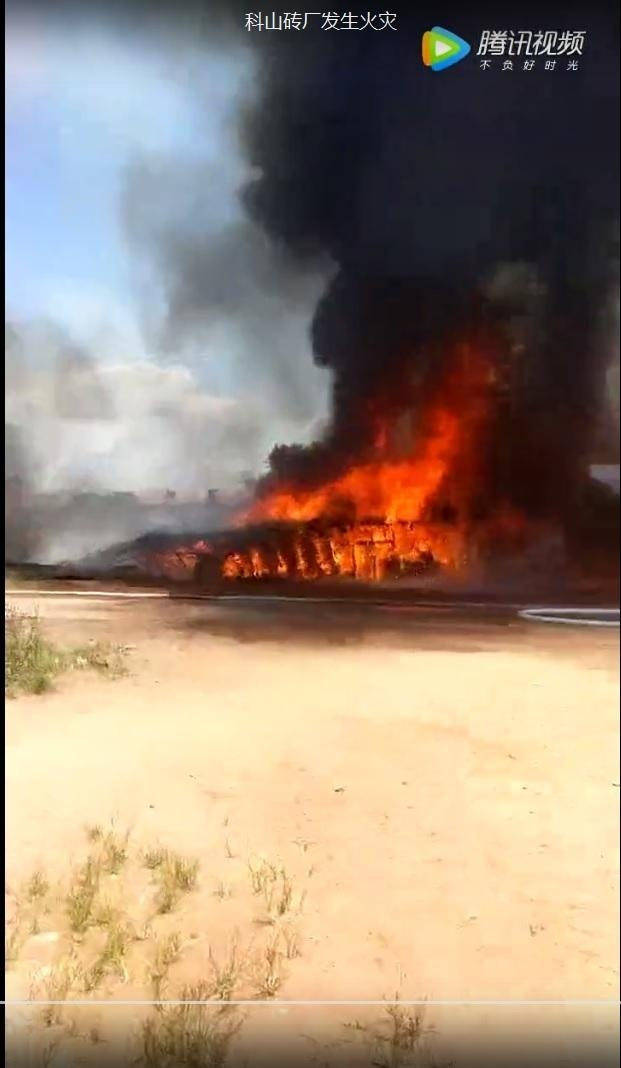fire: (204, 384, 483, 584)
